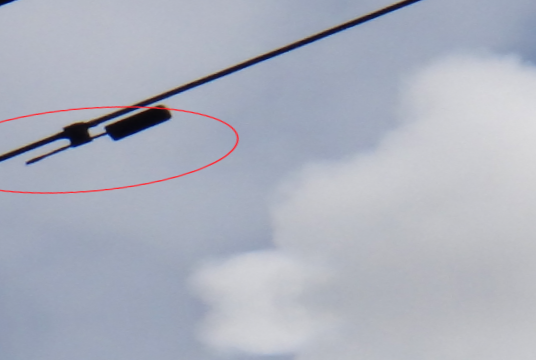damper_defect: (18, 101, 173, 167)
